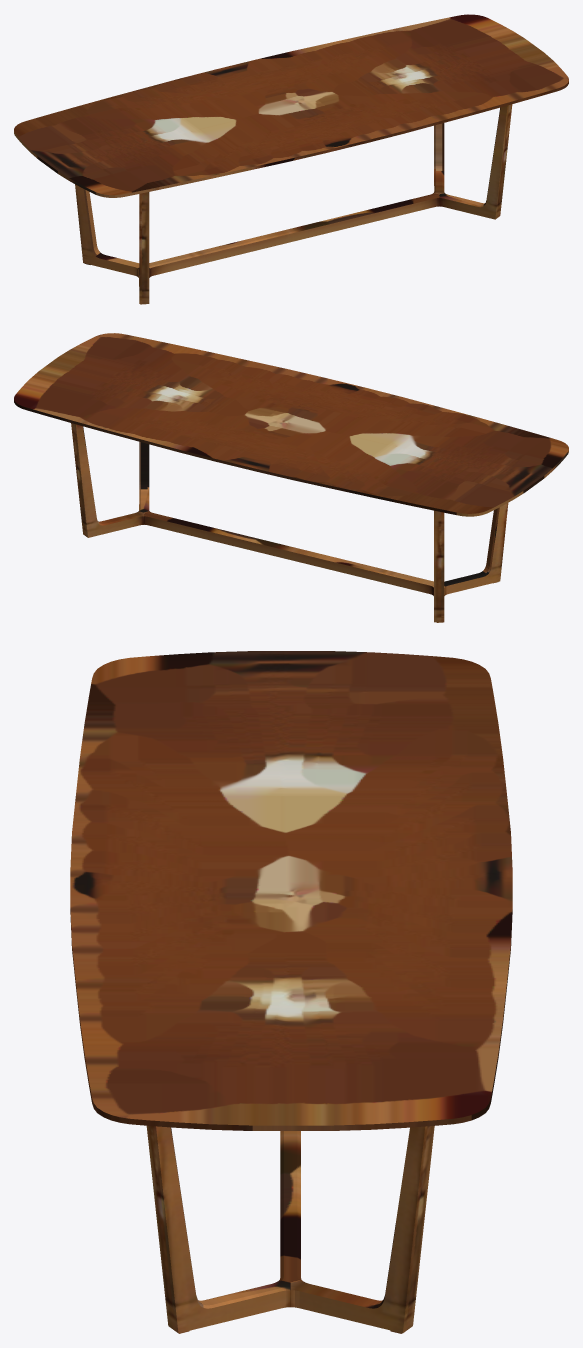
The model's file is edited_mesh.glb.
The picture shows the model from 3 angles, top to bottom: view 1: azimuth 30°, elevation 25°; view 2: azimuth 150°, elevation 25°; view 3: azimuth 270°, elevation 25°; orthographic projection. The views are drawn at different scales.
Visible parts, largest first — view 1: normalized_model.obj; view 2: normalized_model.obj; view 3: normalized_model.obj.
Boxes of the visible parts, x1,y1,x2,y2 form: normalized_model.obj: (14,14,568,304); normalized_model.obj: (14,333,568,622); normalized_model.obj: (70,651,512,1333).
Size of the model in its own units: 2 by 0.5321 by 0.7873.
Materials: 1 (1 with a texture image).
